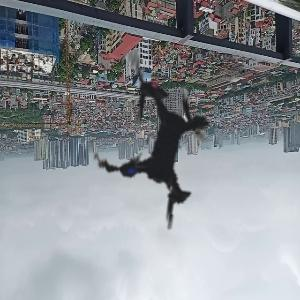drone: (25, 7, 294, 276)
